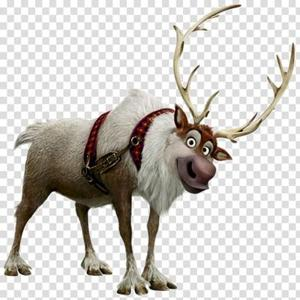sven: (20, 16, 277, 297)
